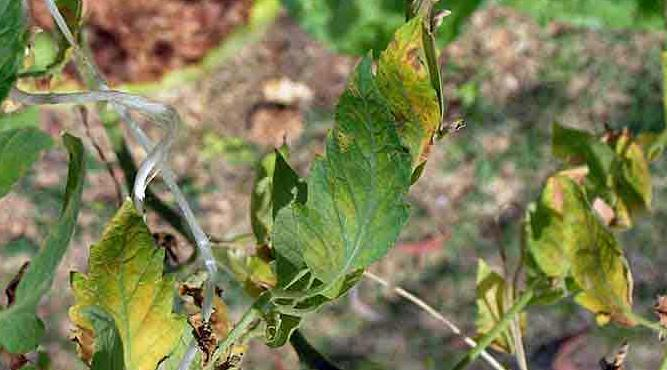Tomato mold leaf: (290, 0, 453, 284), (47, 181, 191, 370), (550, 183, 647, 326)
